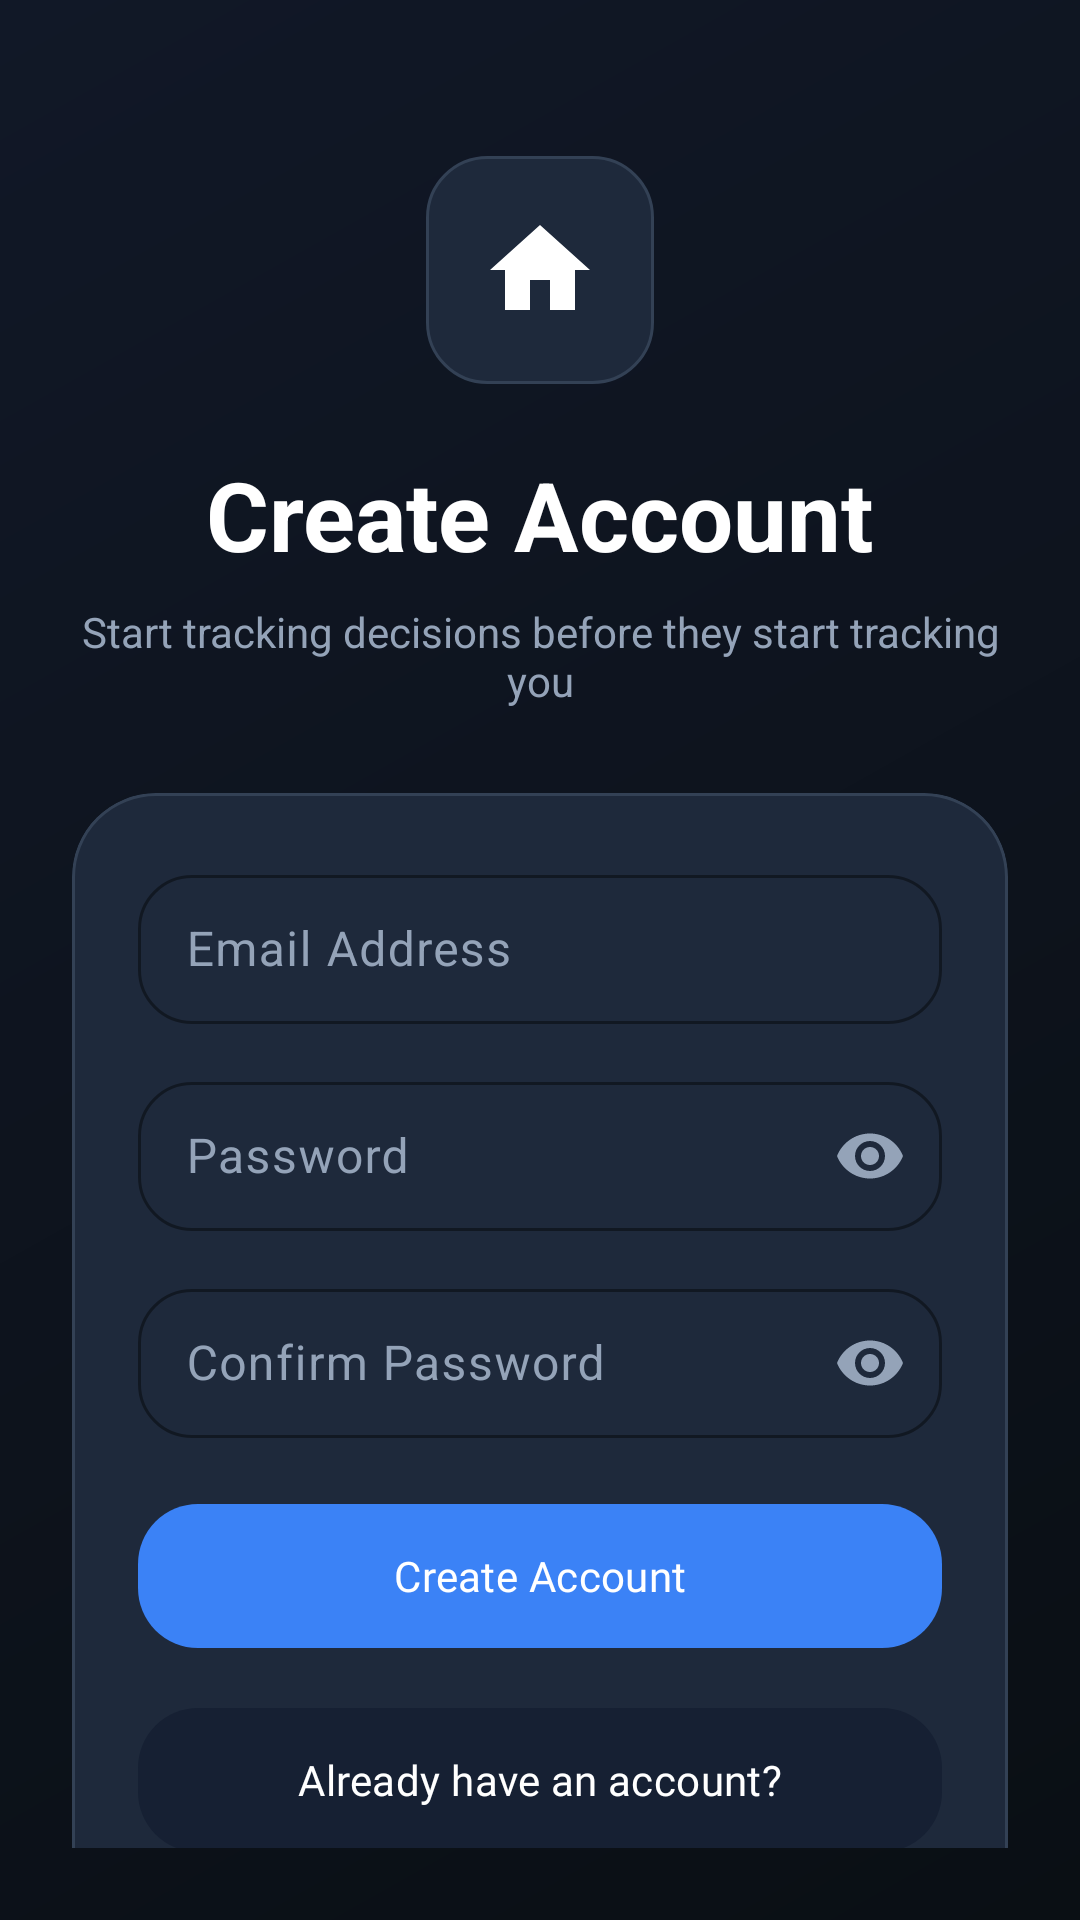

Icons on this 1080x1920 Android screen, each with the point to tap as [x,y]:
home: [540,270]
